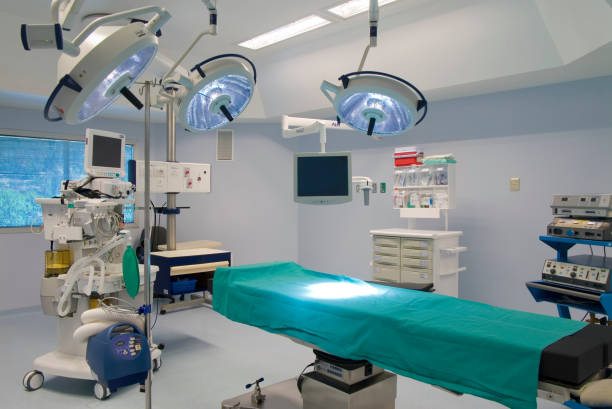bedside_monitor: (293, 152, 353, 204), (87, 135, 127, 172)
breathing_tube: (49, 247, 112, 316)
electrosurgical_unit: (537, 257, 611, 299), (542, 217, 611, 243), (544, 196, 612, 219)
iv_pole: (128, 78, 167, 409)
medical_drawer: (370, 225, 469, 294)
operating_bed: (211, 261, 612, 409)
surgical_light: (42, 1, 167, 126), (319, 70, 426, 137), (178, 52, 253, 135)
ventilator: (36, 175, 154, 360)
